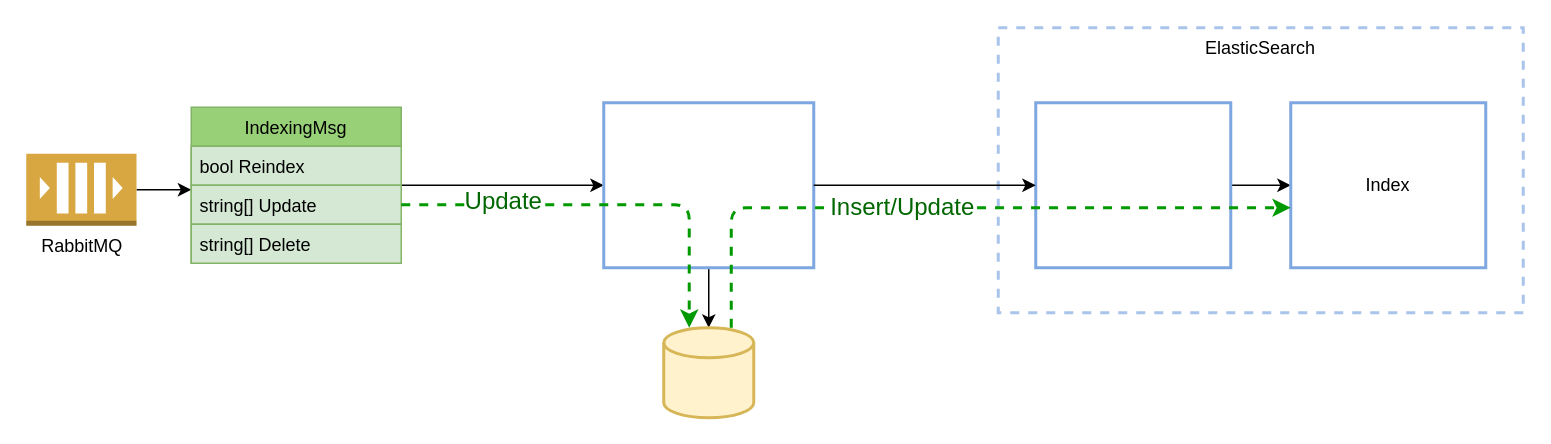
The diagram is 1551 pixels wide and 444 high, and some of its shapes have lost their labels. Here are the shapes that lost their labels. From the top down, the centre of each, then its label:
At pixel 708 184: "IndexerApp".
At pixel 1133 184: "Alias".
At pixel 708 372: "Database".
